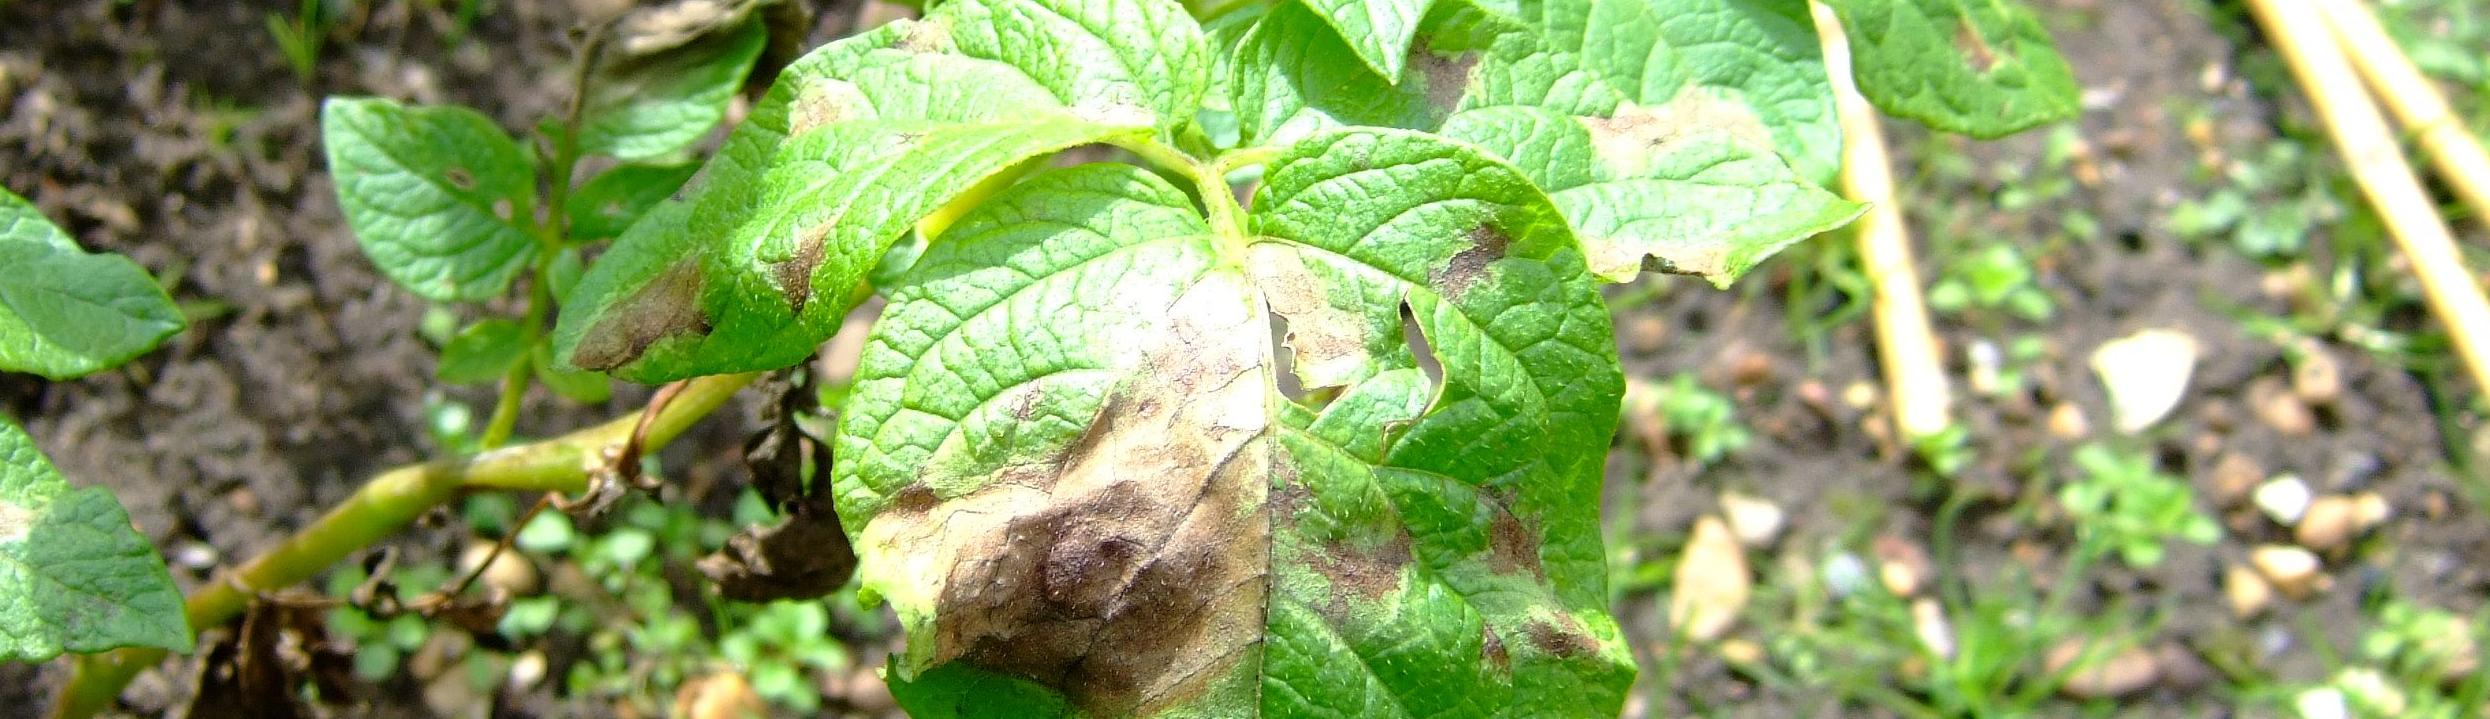Tomato leaf late blight: (834, 136, 1679, 719)
